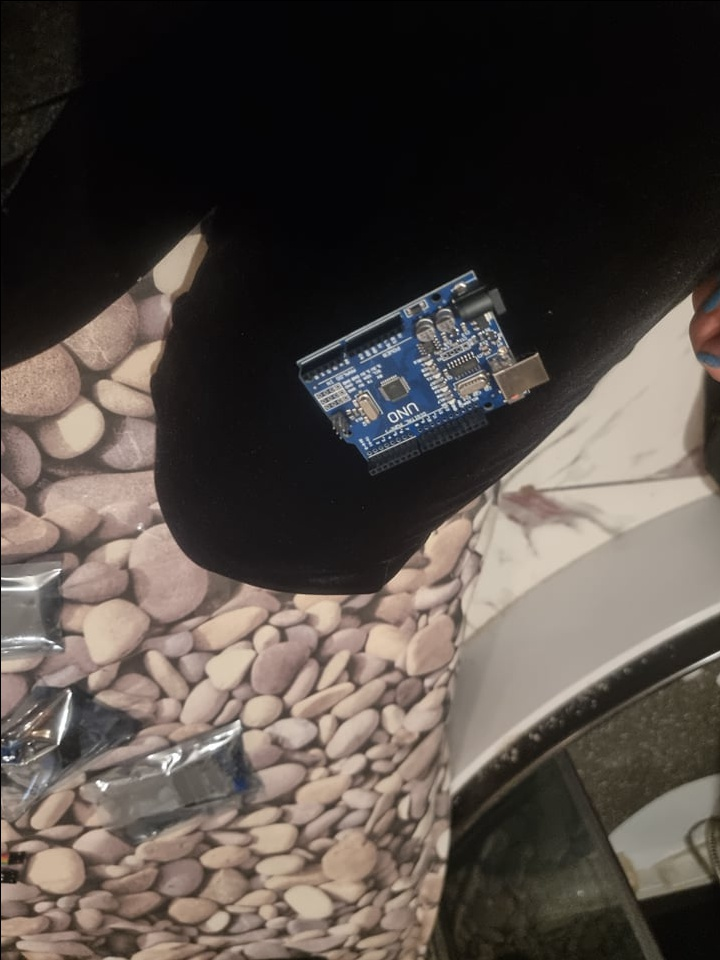UNO R3: (295, 265, 550, 475)
